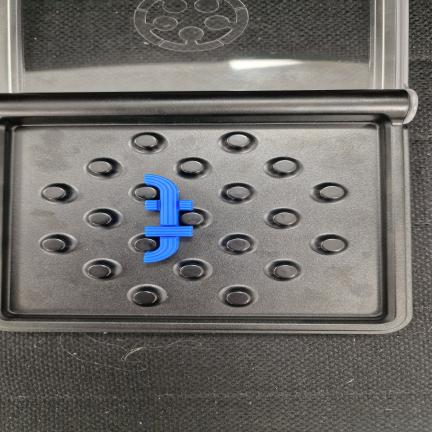C_DarkBlue: (144, 175, 193, 262)
board: (0, 90, 412, 334)
hinge: (0, 92, 417, 120)
pin: (226, 290, 251, 306), (320, 238, 345, 253), (133, 290, 157, 305), (320, 185, 345, 199), (273, 265, 298, 279), (226, 134, 250, 148), (134, 134, 158, 148), (180, 160, 204, 174), (42, 186, 66, 200), (273, 212, 297, 226), (88, 212, 112, 226), (226, 238, 250, 252), (180, 264, 204, 278), (87, 264, 111, 278), (272, 160, 297, 173), (89, 160, 112, 174), (181, 212, 204, 226), (226, 186, 250, 199), (42, 238, 66, 251), (134, 238, 156, 252), (134, 186, 157, 199)
